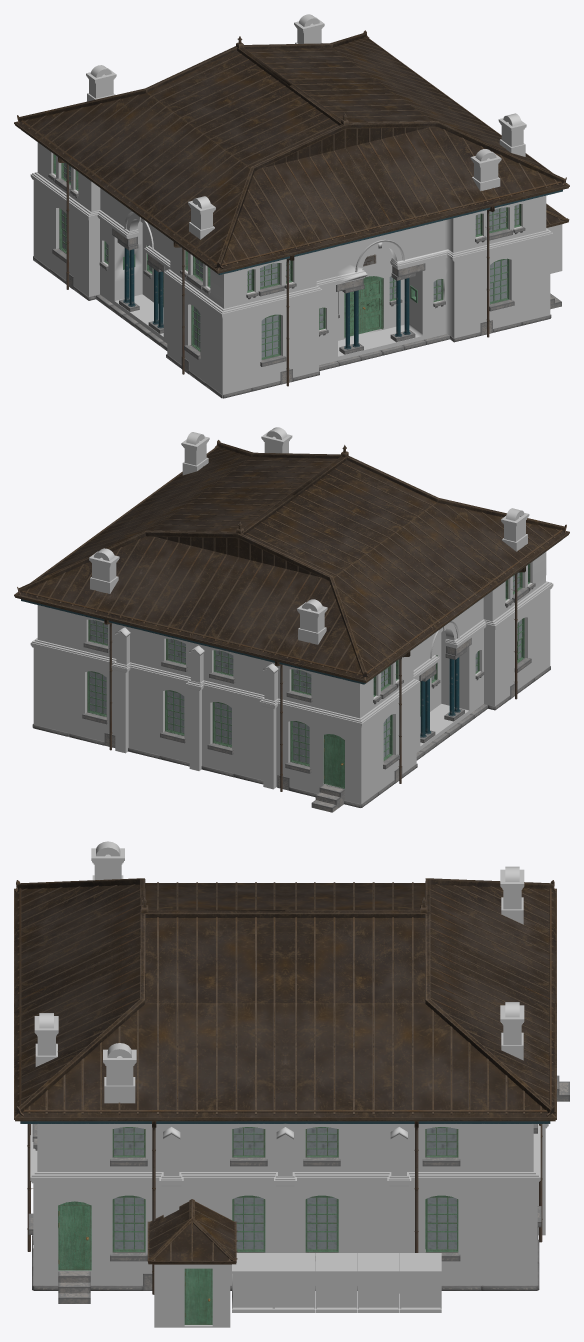
The model's file is OwenMemorialHall_Exterior.fbx.
3 renders of one model, top to bottom at view 1: azimuth 30°, elevation 25°; view 2: azimuth 150°, elevation 25°; view 3: azimuth 270°, elevation 25°, orthographic. The views are drawn at different scales.
Visible parts, largest first — view 1: OwenStoneroof, OwenWall_Side, OwenDoor_Bigwindow, Front_Door_R, Front_Door_L; view 2: OwenStoneroof, OwenWall_Side, OwenDoor_Bigwindow; view 3: OwenStoneroof, OwenWall_Side, OwenDoor_Bigwindow.
Part boxes in pixels (x1=…): OwenStoneroof: x1=14, y1=30, x2=569, y2=398; OwenWall_Side: x1=30, y1=14, x2=562, y2=397; OwenDoor_Bigwindow: x1=53, y1=154, x2=521, y2=359; Front_Door_R: x1=362, y1=279, x2=381, y2=333; Front_Door_L: x1=344, y1=289, x2=362, y2=337; OwenStoneroof: x1=14, y1=440, x2=569, y2=812; OwenWall_Side: x1=30, y1=427, x2=553, y2=804; OwenDoor_Bigwindow: x1=87, y1=563, x2=530, y2=788; OwenStoneroof: x1=14, y1=878, x2=569, y2=1303; OwenWall_Side: x1=30, y1=841, x2=548, y2=1327; OwenDoor_Bigwindow: x1=58, y1=1127, x2=458, y2=1324.
Size of the model in its own units: 1824 by 943 by 1640.
